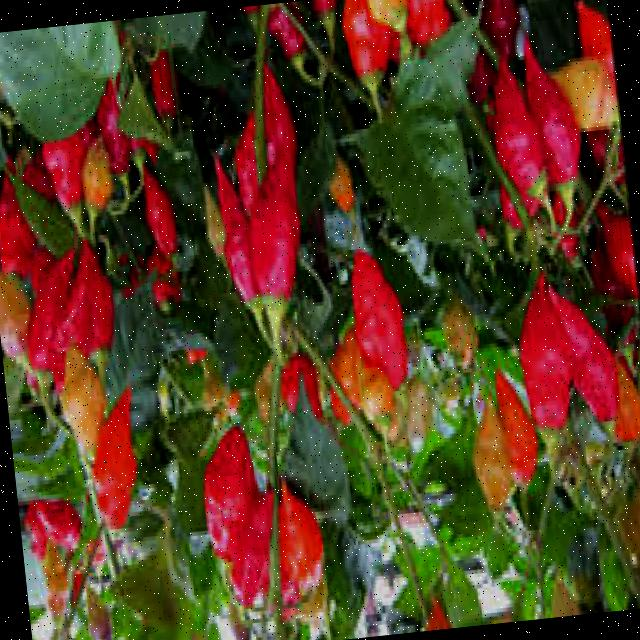healthy: (308, 0, 510, 347)
